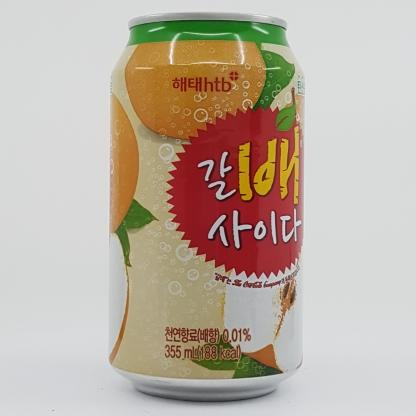-------355ML: (107, 11, 306, 402)
